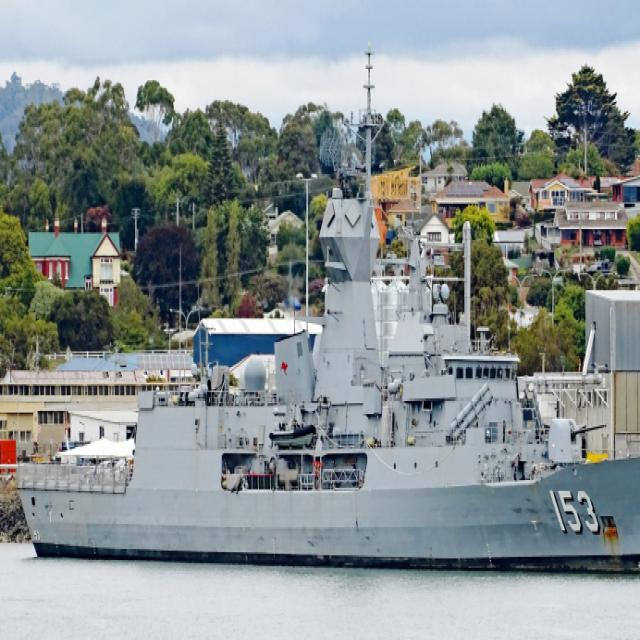Fragata: (15, 65, 640, 569)
